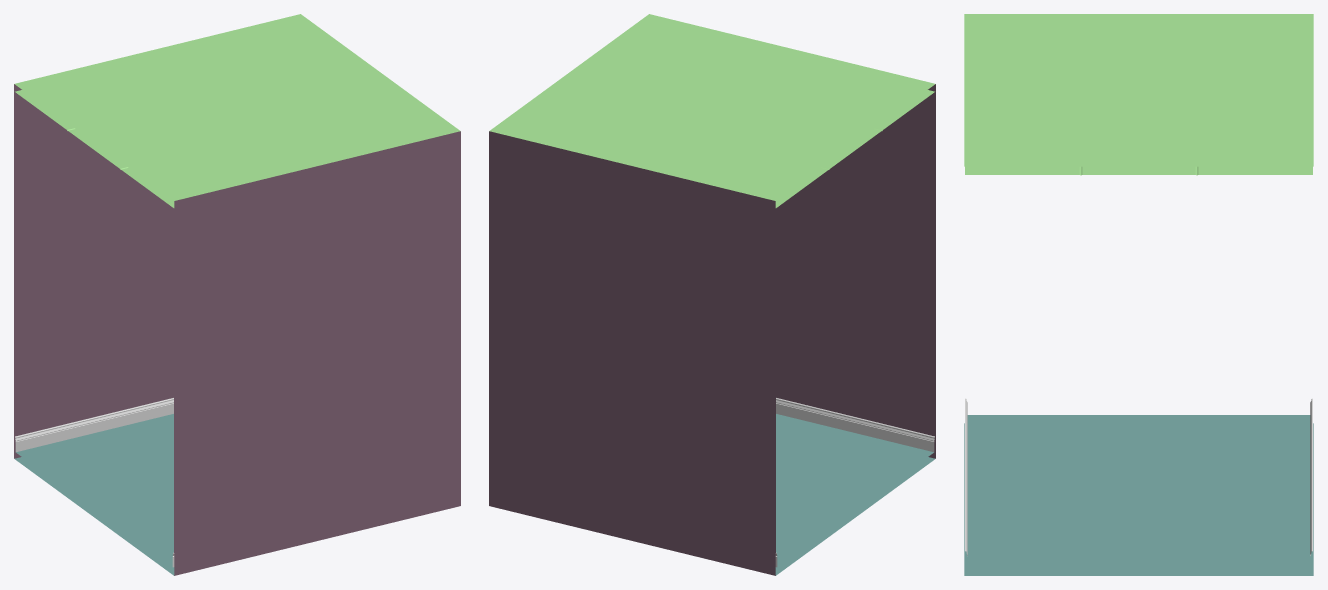
File: Corridor_no_doors.fbx
The picture shows the model from 3 angles, left to right: view 1: azimuth 30°, elevation 25°; view 2: azimuth 150°, elevation 25°; view 3: azimuth 270°, elevation 25°; orthographic projection. The views are drawn at different scales.
Parts seen in each view (by area): view 1: Corridor_no_doors; view 2: Corridor_no_doors; view 3: Corridor_no_doors.
Boxes of the visible parts, x1,y1,x2,y2 form: Corridor_no_doors: [14, 14, 460, 575]; Corridor_no_doors: [489, 14, 935, 575]; Corridor_no_doors: [964, 14, 1313, 575].
Size of the model in its own units: 2 by 2.5 by 1.94.
